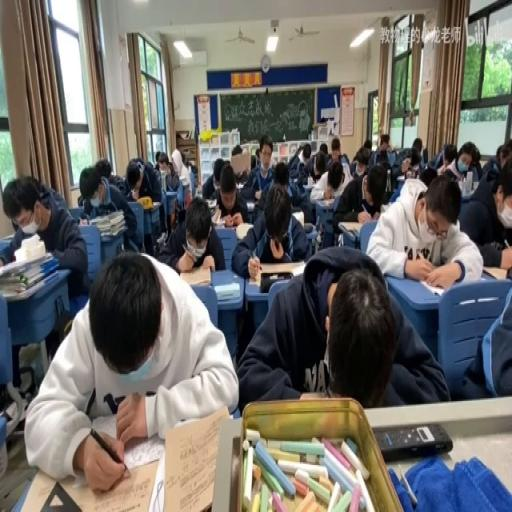calculator: (90, 405, 166, 471), (146, 445, 165, 512), (178, 260, 212, 284), (213, 282, 241, 300), (418, 279, 446, 294), (338, 220, 364, 234), (482, 264, 508, 278), (234, 222, 253, 240), (247, 269, 262, 286), (291, 210, 304, 228), (210, 205, 222, 222), (217, 220, 237, 230), (317, 196, 335, 206), (204, 196, 217, 208), (300, 182, 314, 193), (155, 232, 165, 246), (1, 232, 16, 240), (379, 202, 390, 212), (77, 216, 89, 225), (178, 174, 188, 184), (245, 202, 254, 212), (195, 184, 202, 196), (150, 199, 161, 206), (395, 174, 405, 180), (292, 176, 298, 185)
paper: (28, 250, 238, 488), (237, 247, 445, 411), (368, 171, 483, 286), (1, 172, 87, 307), (230, 179, 308, 275), (457, 269, 510, 402), (80, 161, 143, 260), (157, 192, 225, 273), (332, 160, 386, 242), (473, 153, 512, 263), (204, 162, 250, 225), (444, 142, 478, 182), (323, 135, 350, 176), (382, 141, 412, 176), (298, 144, 323, 180), (350, 141, 372, 172), (160, 158, 179, 192), (426, 142, 446, 171), (272, 160, 290, 188), (496, 141, 512, 172), (126, 162, 142, 192), (418, 165, 438, 186), (108, 171, 126, 192), (186, 161, 198, 192), (96, 158, 110, 179), (232, 166, 248, 184), (213, 164, 223, 188), (411, 138, 422, 159), (379, 134, 390, 150), (169, 201, 176, 226), (318, 142, 328, 156), (230, 144, 242, 155), (409, 156, 418, 170), (377, 151, 386, 162), (296, 144, 304, 156), (154, 148, 160, 163), (250, 155, 256, 169), (254, 148, 259, 161)
person: (373, 420, 453, 460), (260, 270, 294, 293), (302, 220, 314, 232)
